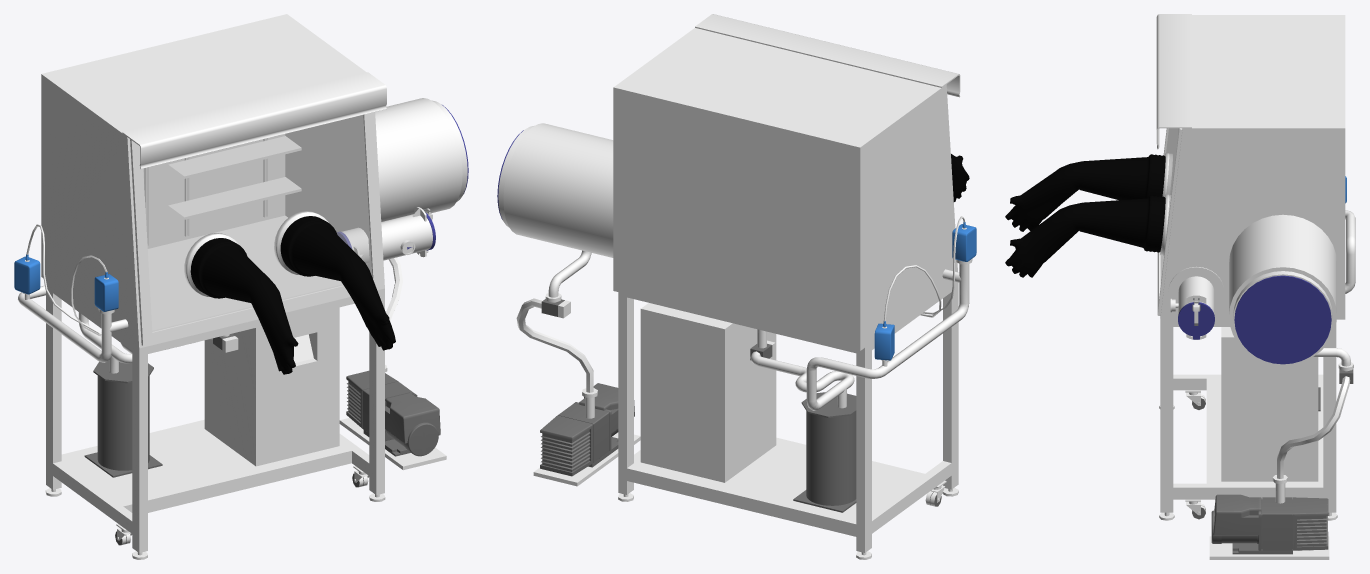
File: m_braun_labster_v2.fbx
The picture shows the model from 3 angles, left to right: view 1: azimuth 30°, elevation 25°; view 2: azimuth 150°, elevation 25°; view 3: azimuth 270°, elevation 25°; orthographic projection. The views are drawn at different scales.
Visible parts, largest first — view 1: vacuum_chamber, glass, large_thing, generator, airlock, generator_base; view 2: vacuum_chamber, large_thing, generator, generator_base; view 3: vacuum_chamber, large_thing, glass, generator, airlock, generator_base, hatch.001.
Boxes of the visible parts, x1,y1,x2,y2 form: vacuum_chamber: (14, 14, 386, 559); glass: (143, 115, 395, 374); large_thing: (375, 98, 468, 372); generator: (346, 370, 440, 456); airlock: (342, 207, 432, 264); generator_base: (339, 418, 446, 470); vacuum_chamber: (613, 14, 976, 559); large_thing: (497, 123, 613, 418); generator: (540, 383, 634, 476); generator_base: (533, 432, 640, 486); vacuum_chamber: (1156, 14, 1355, 520); large_thing: (1229, 214, 1353, 503); glass: (1005, 128, 1178, 284); generator: (1211, 494, 1328, 554); airlock: (1168, 266, 1224, 339); generator_base: (1209, 536, 1329, 559); hatch.001: (1178, 302, 1214, 339).
Size of the model in its own units: 211 by 206 by 167.
